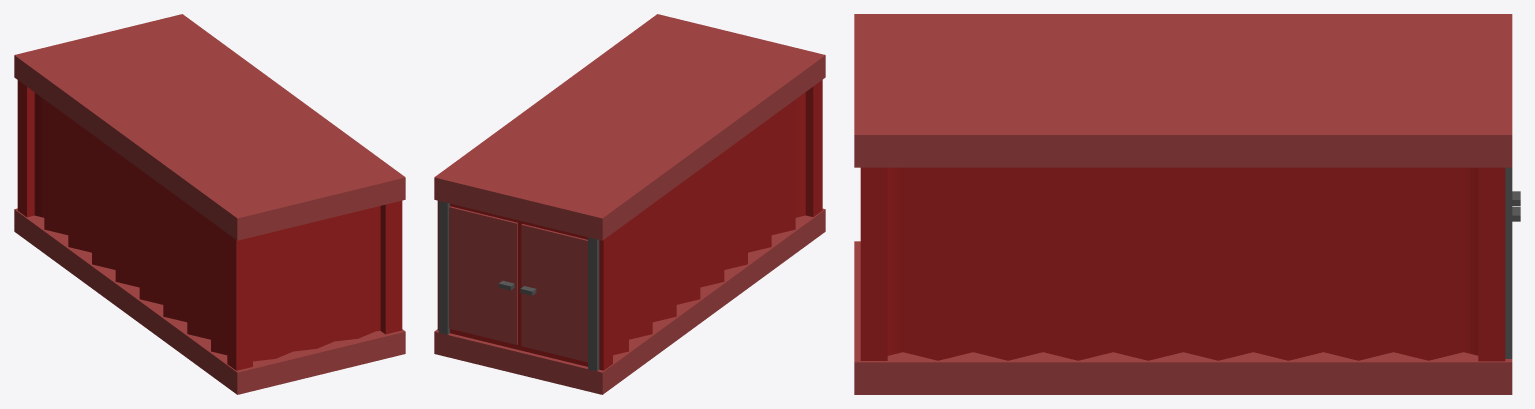
Rendered from storage crate.fbx.
The picture shows the model from 3 angles, left to right: view 1: azimuth 30°, elevation 25°; view 2: azimuth 150°, elevation 25°; view 3: azimuth 270°, elevation 25°; orthographic projection. The views are drawn at different scales.
Visible parts, largest first — view 1: pCube48, pCube46, pCube47, pCube57, pCube56, pCube55; view 2: pCube48, pCube46, pCube47, pCube49, pCube50, pCube55, pCube57, pCube53, pCube54; view 3: pCube46, pCube48, pCube47, pCube55, pCube56, pCube54.
Boxes of the visible parts, x1,y1,x2,y2 form: pCube48: [14, 14, 405, 240]; pCube46: [34, 92, 380, 361]; pCube47: [14, 208, 405, 394]; pCube57: [227, 233, 252, 370]; pCube56: [380, 200, 402, 334]; pCube55: [17, 80, 34, 217]; pCube48: [434, 14, 825, 240]; pCube46: [613, 92, 805, 355]; pCube47: [434, 208, 825, 394]; pCube49: [449, 206, 517, 344]; pCube50: [521, 224, 587, 362]; pCube55: [437, 200, 612, 370]; pCube57: [805, 80, 822, 216]; pCube53: [588, 237, 599, 371]; pCube54: [438, 201, 449, 334]; pCube46: [887, 167, 1478, 360]; pCube48: [854, 14, 1512, 167]; pCube47: [854, 241, 1512, 394]; pCube55: [1478, 167, 1505, 361]; pCube56: [860, 167, 887, 360]; pCube54: [1505, 167, 1512, 358].
Bounding box in the file's own units: 2.25 × 2.26 × 5.25.
